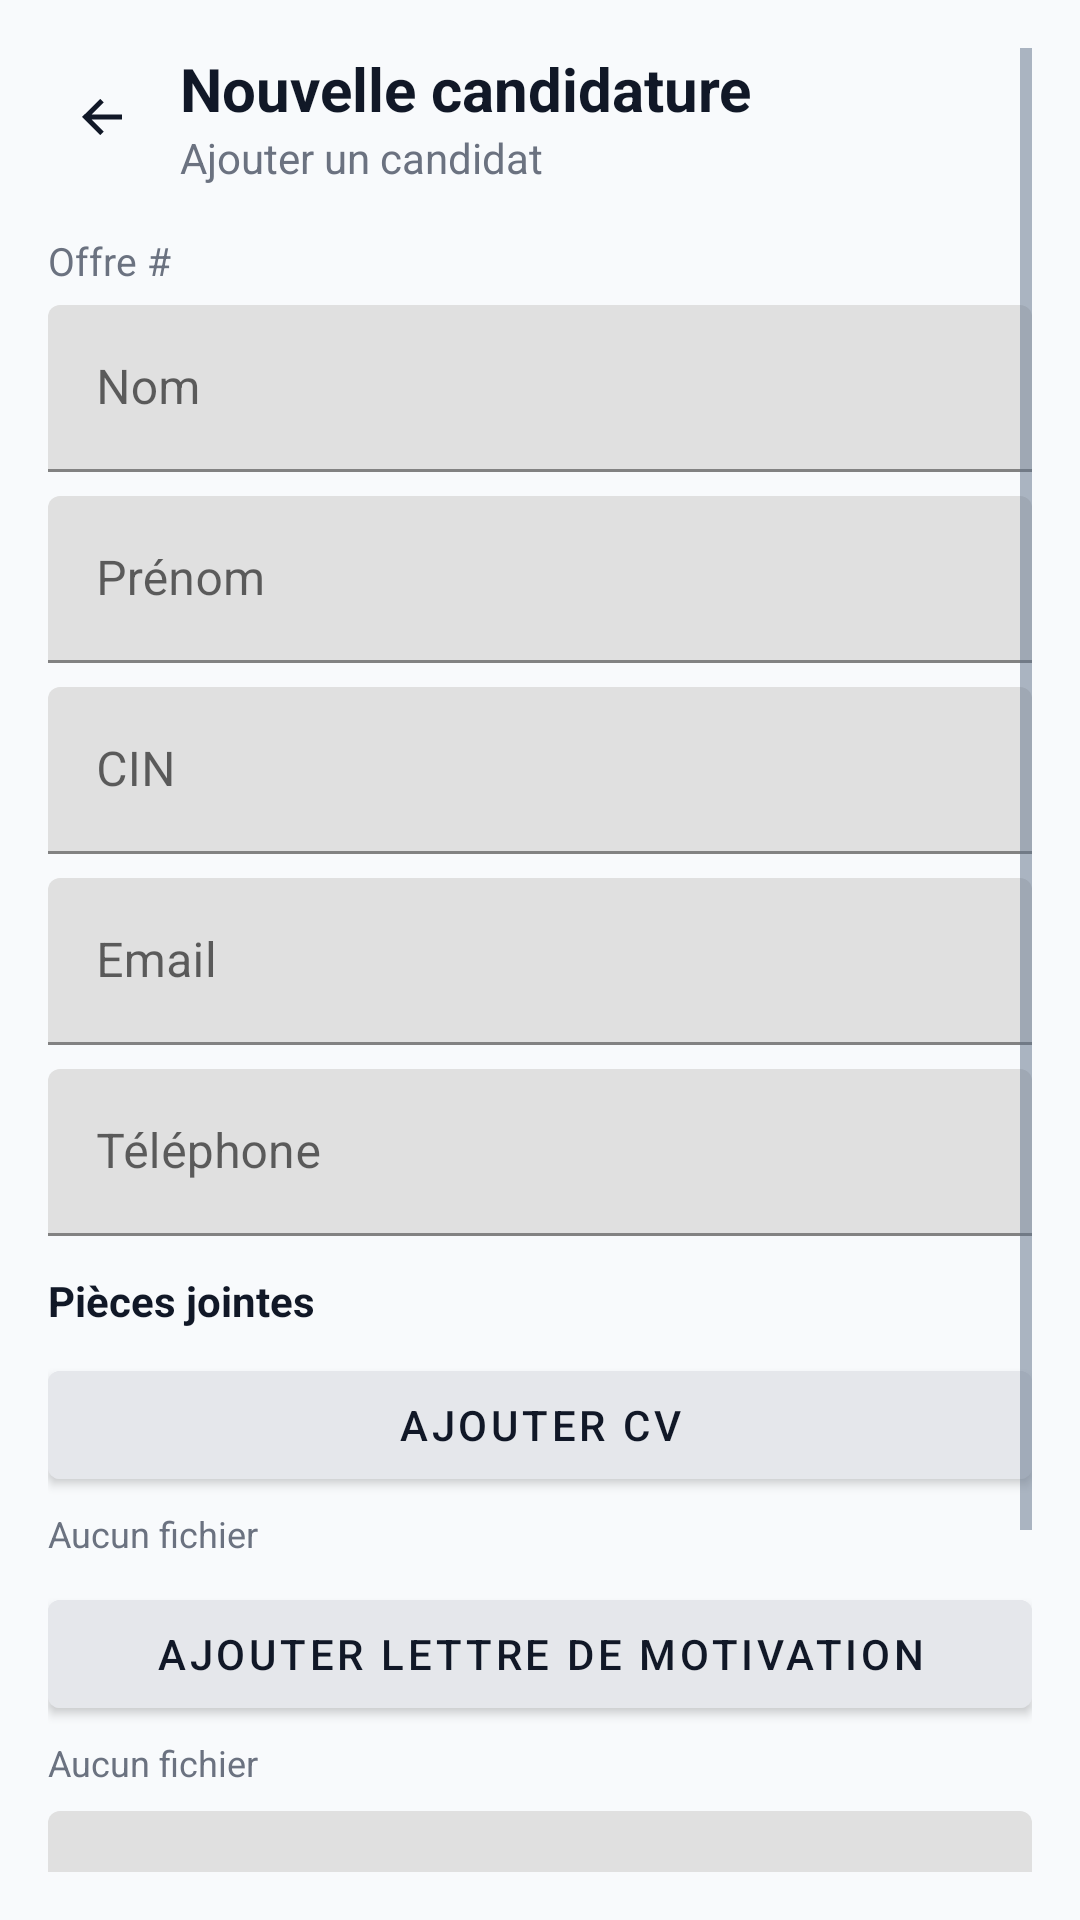

Point at icon controls on the screen. Image size 1080w x 1920h, points as point (x, y).
arrow back: point (102, 117)
